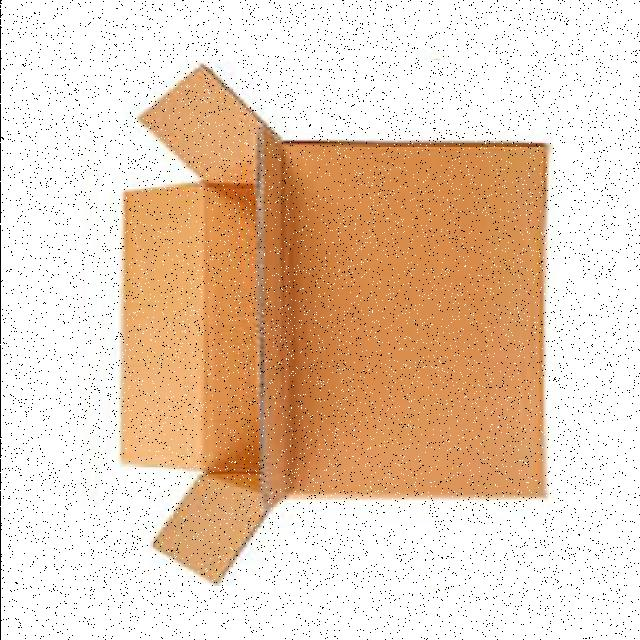defect: (98, 60, 552, 586)
